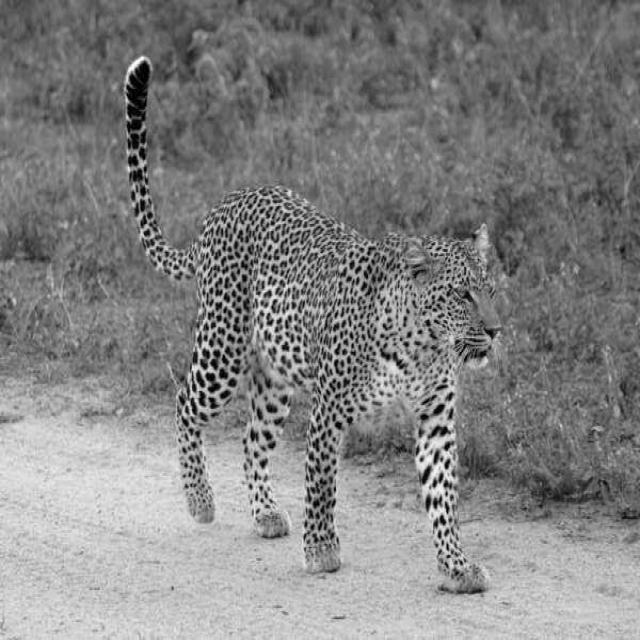Leopard: (121, 54, 502, 594)
